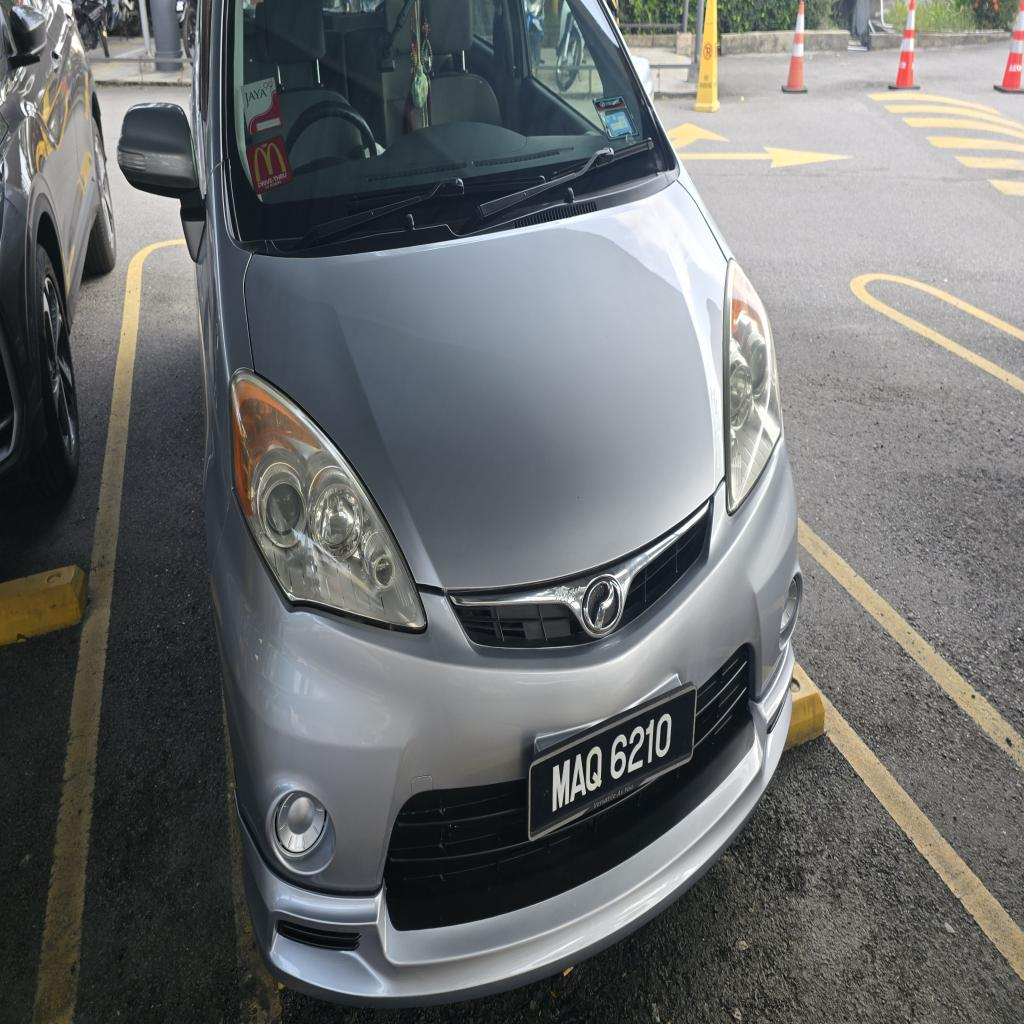car: (119, 0, 801, 1003)
car plate: (528, 685, 696, 840)
